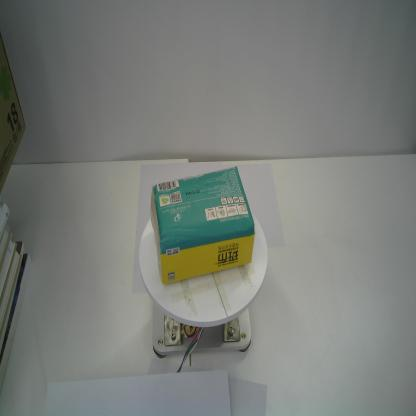Tissue: (150, 164, 256, 286)
